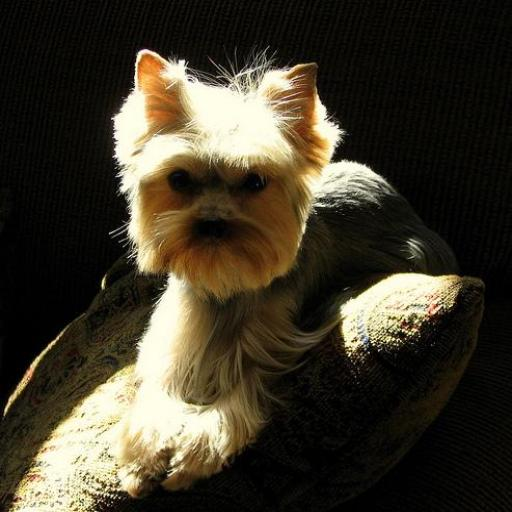dog_face: (115, 50, 315, 289)
